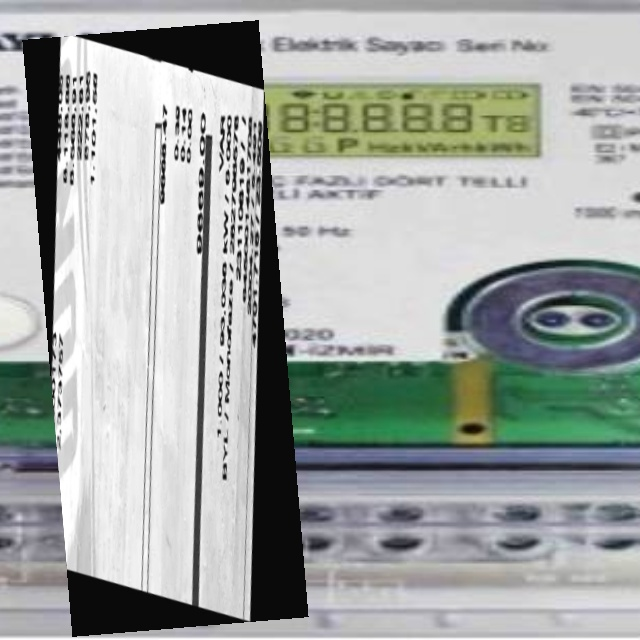electricity-bill: (21, 19, 308, 637)
